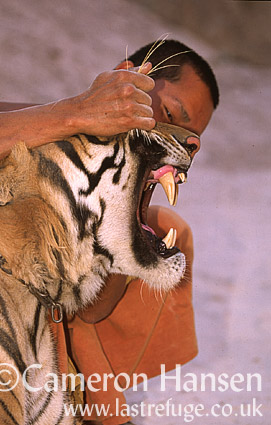Tigre: (10, 145, 203, 325)
